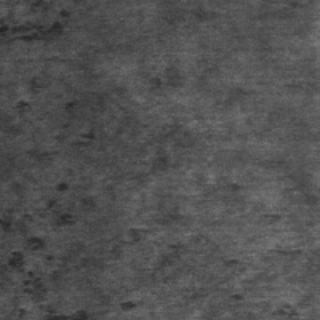rolled pit: (0, 92, 91, 318), (0, 0, 76, 50)
